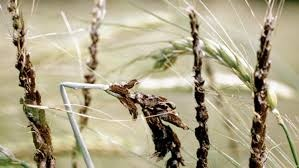Wheat Loose Smut: (7, 13, 57, 157), (248, 16, 277, 166)
